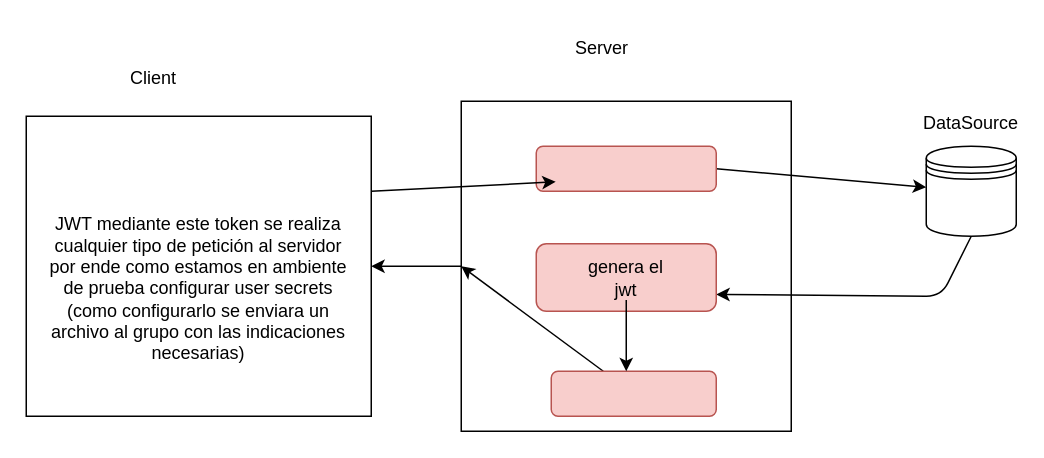
The diagram is 1044 pixels wide and 458 high, and some of its shapes have lost their labels. Here are the shapes that lost their labels. From the top down, the centre of each, then its label:
At (x=625, y=168): "Login".
At (x=633, y=393): "envia al cliente jwt".
